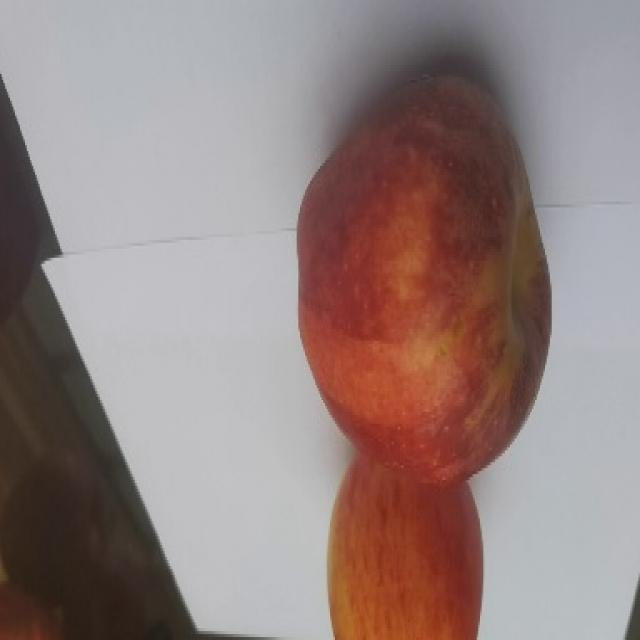Apple: (296, 78, 560, 487), (319, 451, 492, 640)
